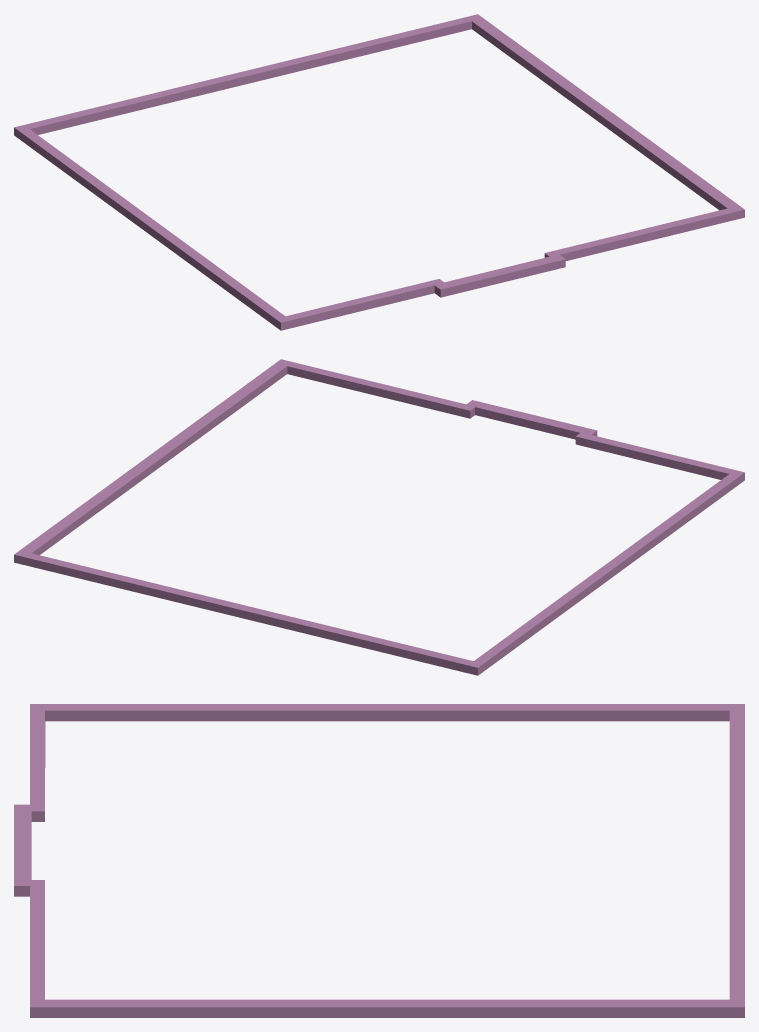
Rendered from Schalung.fbx.
3 renders of one model, top to bottom at view 1: azimuth 30°, elevation 25°; view 2: azimuth 150°, elevation 25°; view 3: azimuth 270°, elevation 25°, orthographic. The views are drawn at different scales.
Visible parts, largest first — view 1: Cube.002; view 2: Cube.002; view 3: Cube.002.
Part boxes in pixels (left/top/right/bottom): Cube.002: left=14, top=14, right=744, bottom=330; Cube.002: left=14, top=359, right=744, bottom=675; Cube.002: left=14, top=704, right=744, bottom=1017.
Bounding box in the file's own units: 973 × 15.95 × 991.
